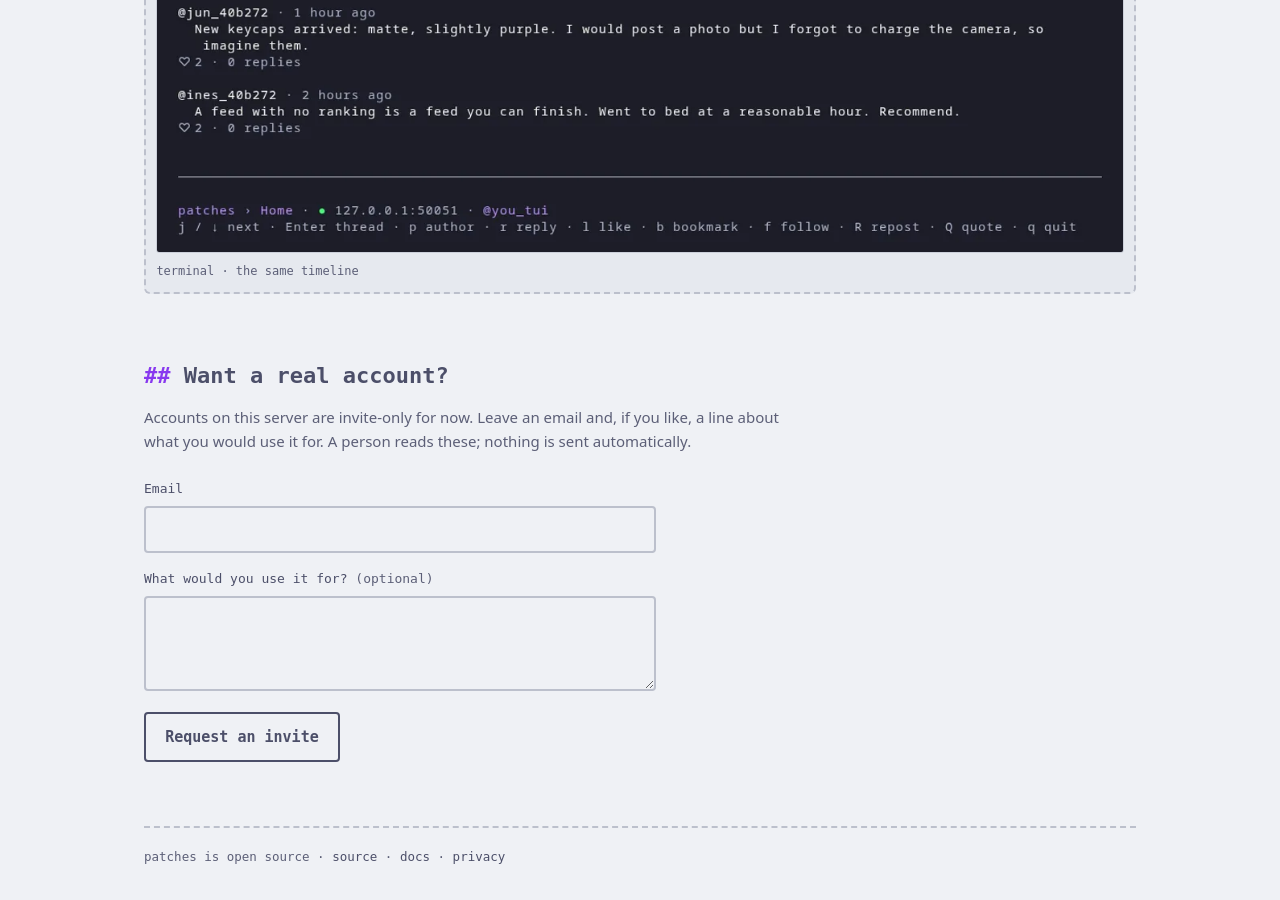
LandingRoute › explains a rate-limited invite request
This screenshot has width=1280, height=900.
(page scrolled)
Type "me@example.test" into the field labelled "Email".
click(400, 529); type("me@example.test")  # box [144,506,656,553]
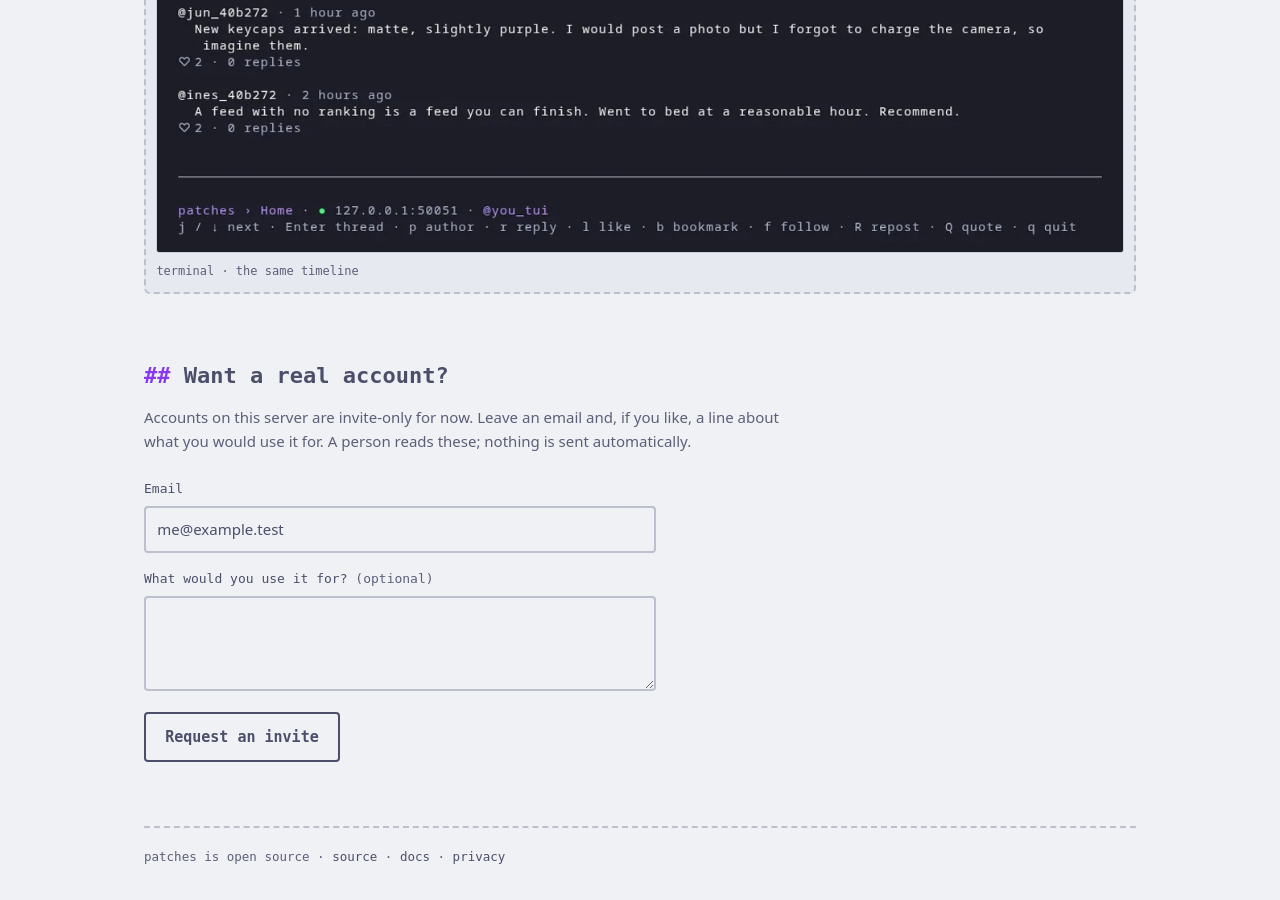
Click the button "Request an invite".
click(242, 737)  # box [144,712,340,762]
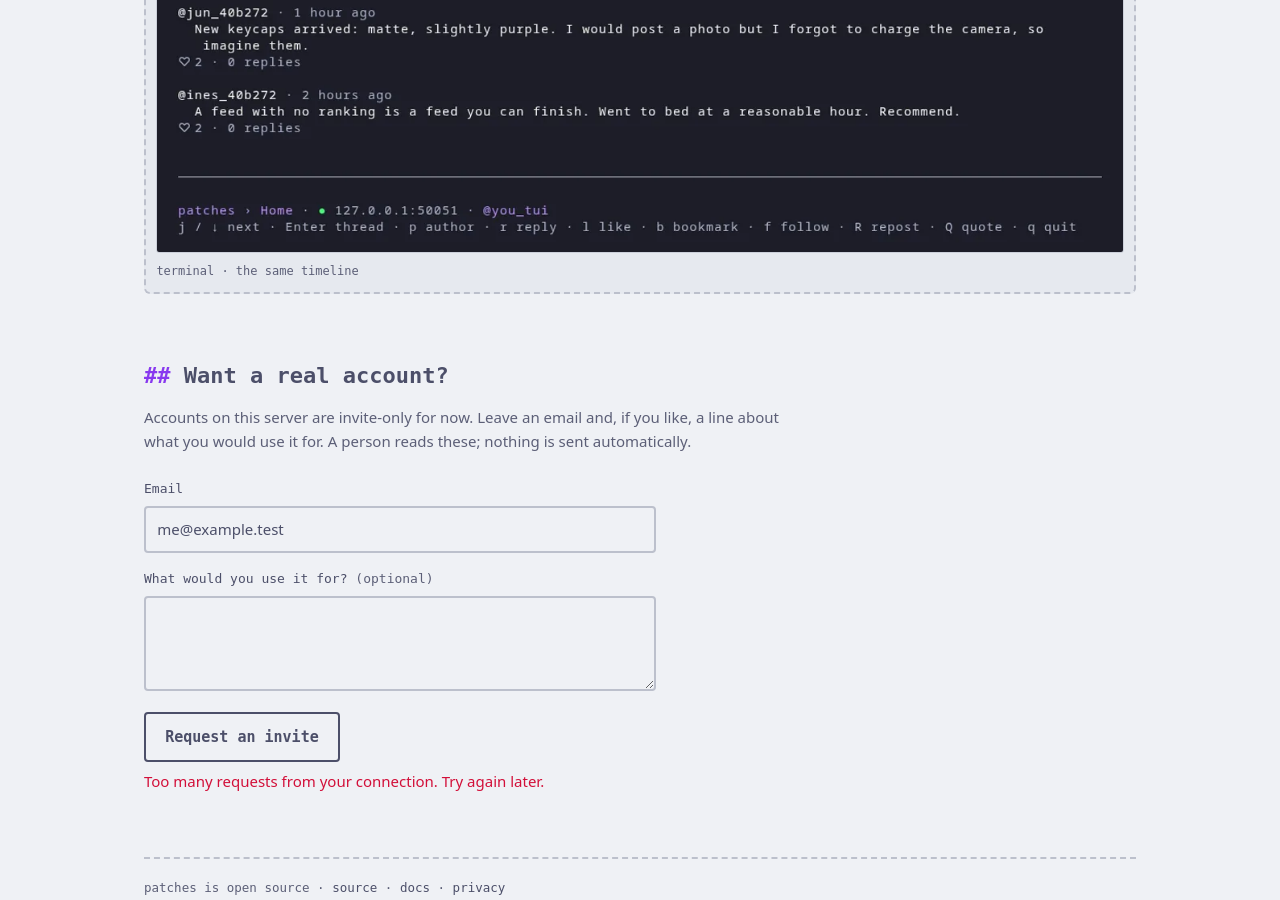
Expected: the message shows "Too many requests", [144,771,544,791]
